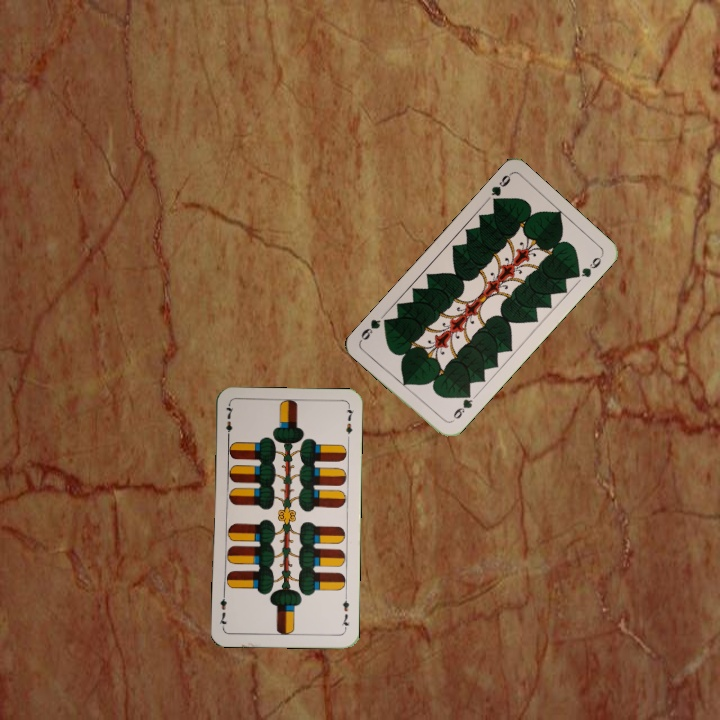E7: (338, 592, 352, 632), (222, 402, 236, 442)
G9: (447, 388, 476, 425), (487, 170, 513, 208)
